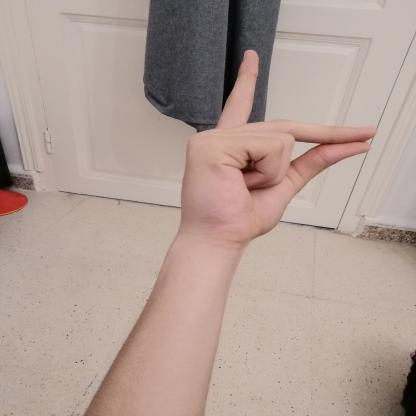TAA: (167, 38, 388, 256)
